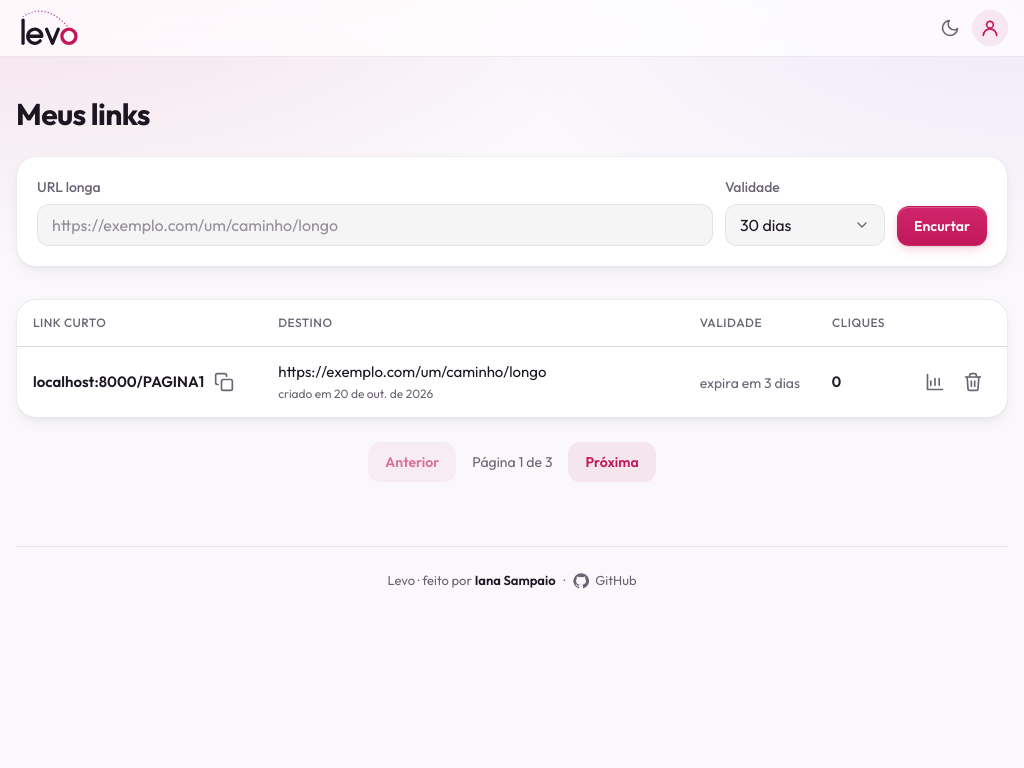
Test: meus links › a paginação muda ?page e busca a página certa
The width and height of the screenshot is (1024, 768).
Check: the text "Página 1 de 3" is shown, box [472,452,552,472]
What coordinates should you click on to do the following:
click the button "Próxima"
I would click on:
 (612, 462)
Its box is [568,442,656,482].
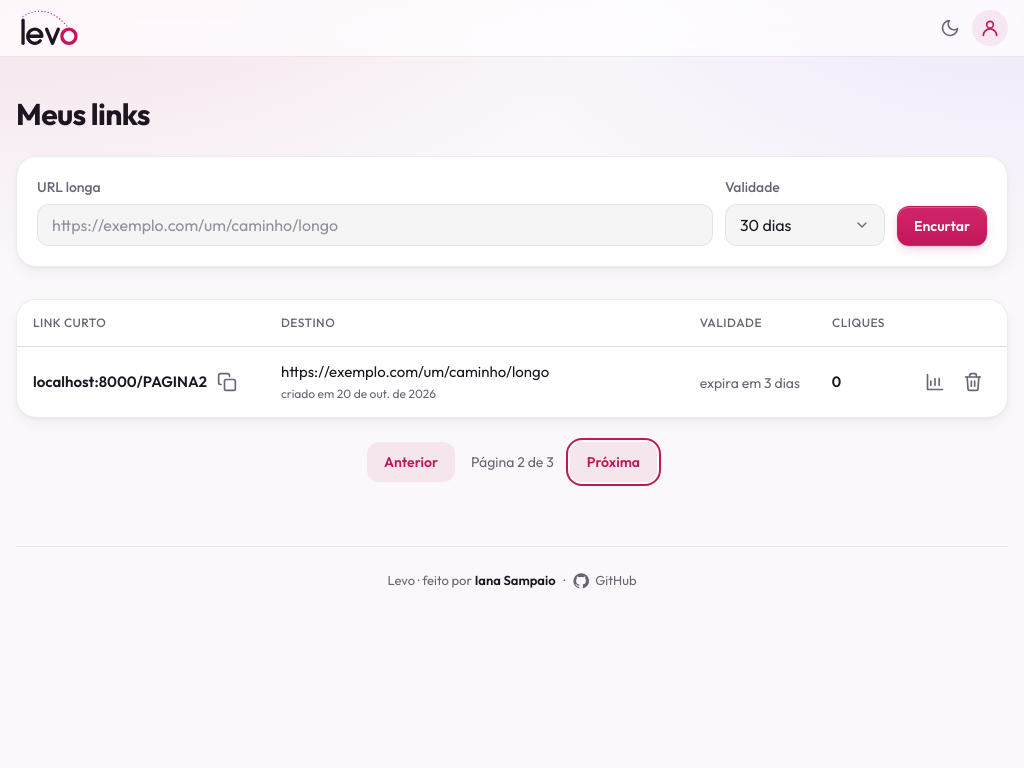
Check: the link "localhost:8000/PAGINA2" is shown, box [33,372,207,391]
Check: the text "Página 2 de 3" is shown, box [471,452,554,472]
